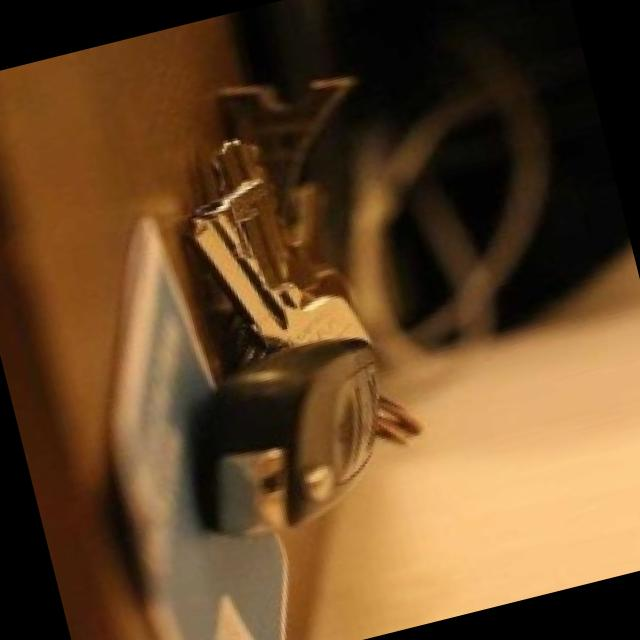anahtar: (154, 114, 350, 371)
